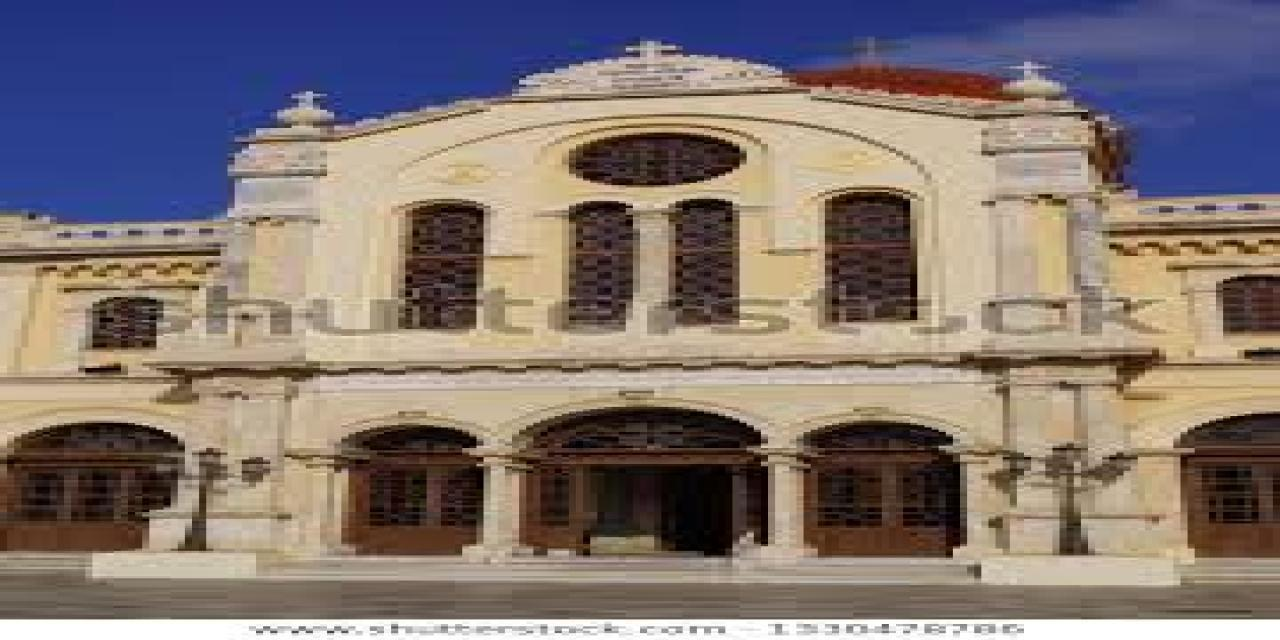Agios Minas: (1, 36, 1280, 589)
